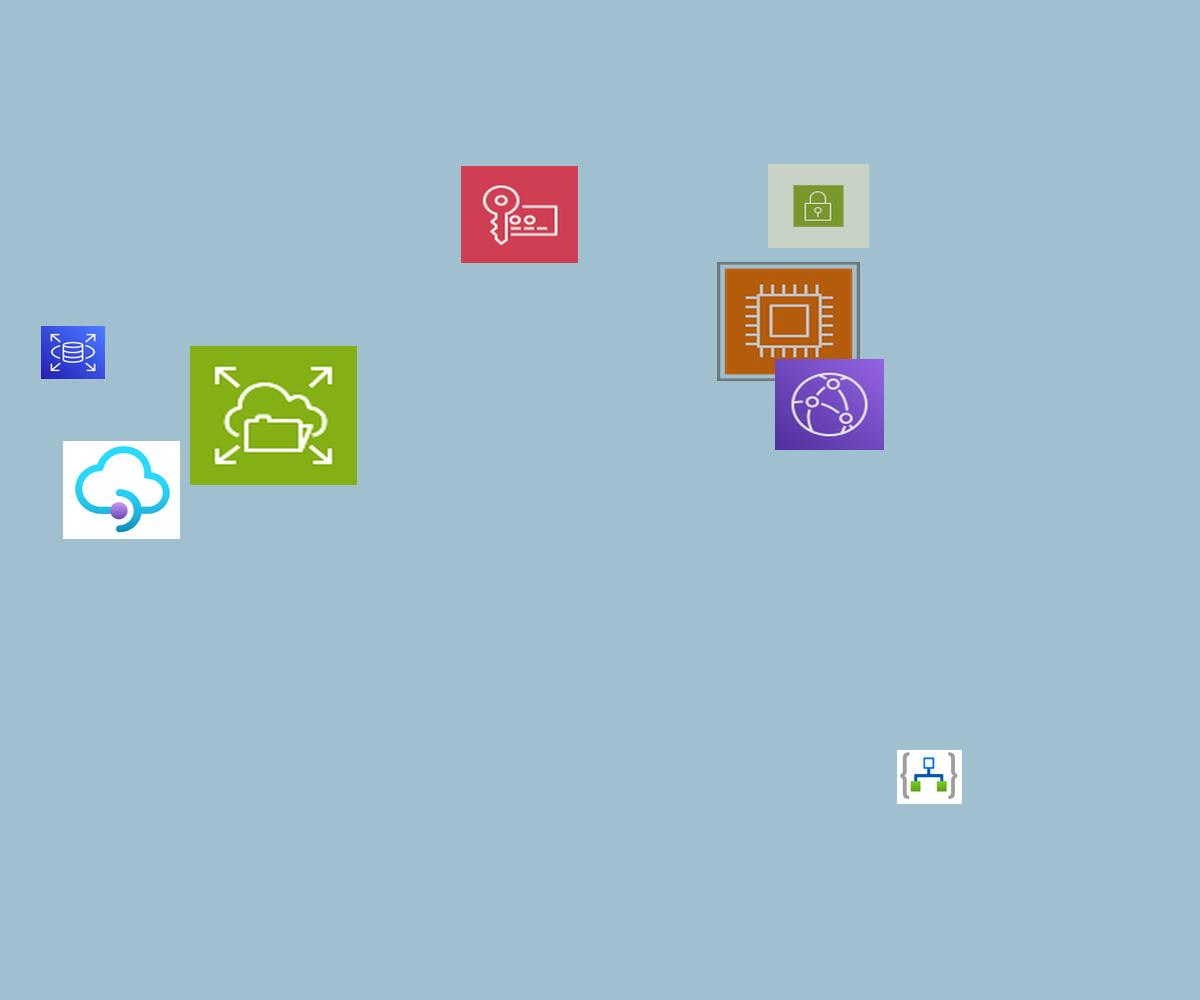AWS-Category_Compute: (717, 262, 860, 381)
AWS-CloudFront: (775, 359, 884, 450)
AWS-EFS: (190, 346, 357, 485)
AWS-Key-Management-Service: (461, 166, 578, 263)
AWS-Public-subnet: (768, 164, 869, 248)
AWS-RDS: (41, 326, 105, 379)
Azure_api_gateway: (63, 441, 180, 539)
Azure_integration-204-Logic-Apps: (897, 750, 962, 804)
